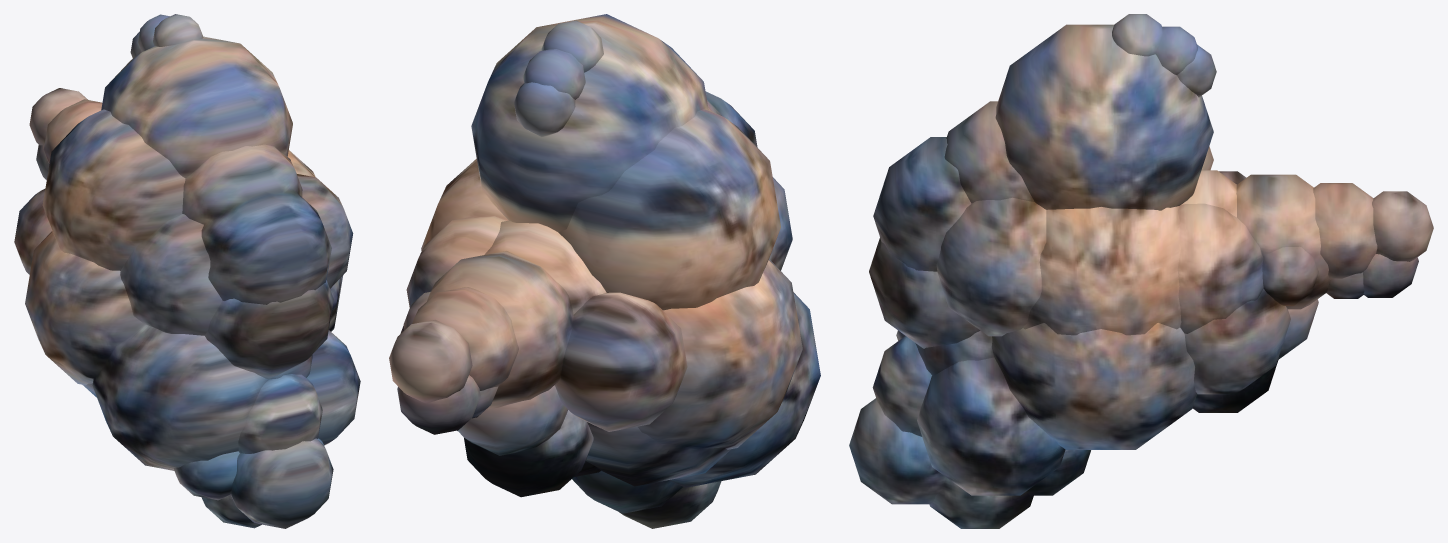
The model's file is Azurite.glb.
The picture shows the model from 3 angles, left to right: view 1: azimuth 30°, elevation 25°; view 2: azimuth 150°, elevation 25°; view 3: azimuth 270°, elevation 25°; orthographic projection. The views are drawn at different scales.
Parts seen in each view (by area): view 1: Azurite; view 2: Azurite; view 3: Azurite.
Part boxes in pixels (left/top/right/bottom): Azurite: left=14, top=14, right=360, bottom=528; Azurite: left=389, top=14, right=820, bottom=528; Azurite: left=849, top=14, right=1433, bottom=528.
Bounding box in the file's own units: 1.03 × 1.56 × 1.62.
1 material, 1 textured.
